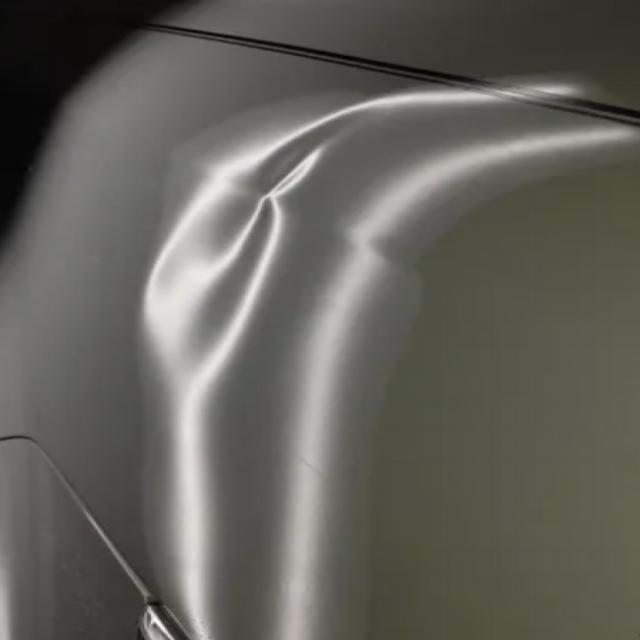dents: (155, 84, 371, 373)
